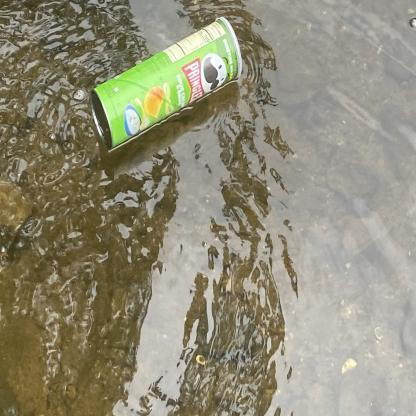trash: (81, 8, 252, 159)
